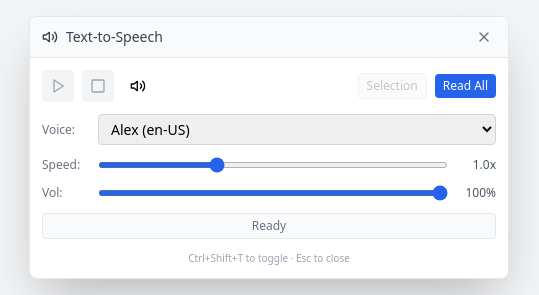
Test: TtsPanel › shows status when no text available and Read All clicked
Click the button "Read All". click: (465, 86)
box: [435,74,496,98]
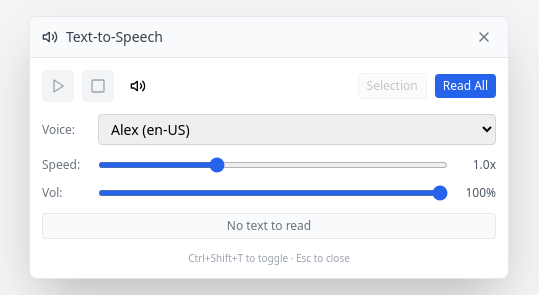
Now the text "No text to read" is shown, box [42,213,496,239]
